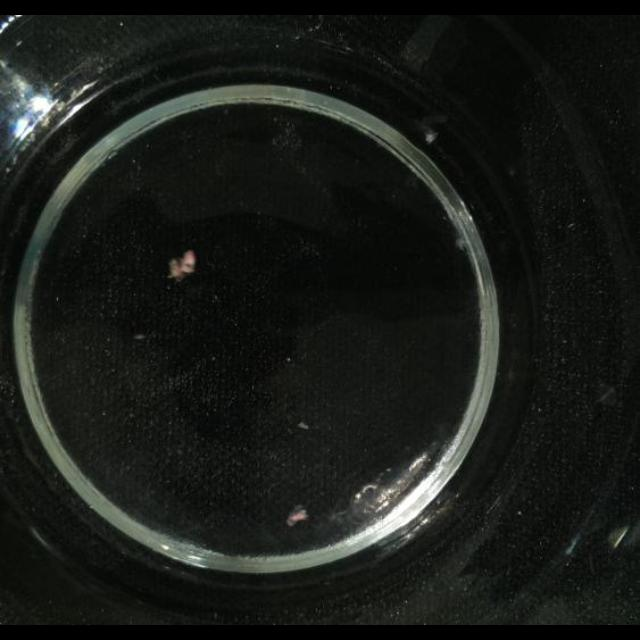Fragment: (167, 250, 197, 280)
microbeads: (286, 506, 310, 526), (297, 420, 309, 430)
